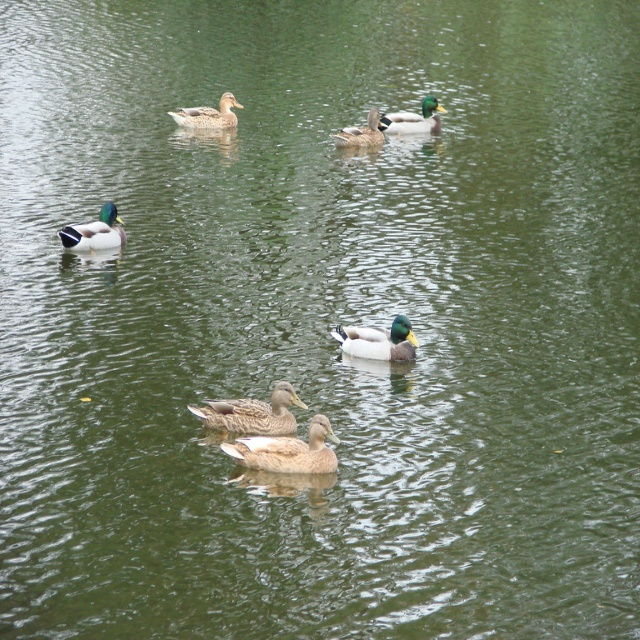Duck: (222, 417, 340, 488), (184, 380, 307, 438), (330, 307, 414, 377), (57, 201, 130, 260), (378, 95, 450, 139), (163, 95, 243, 131), (330, 108, 382, 150)
